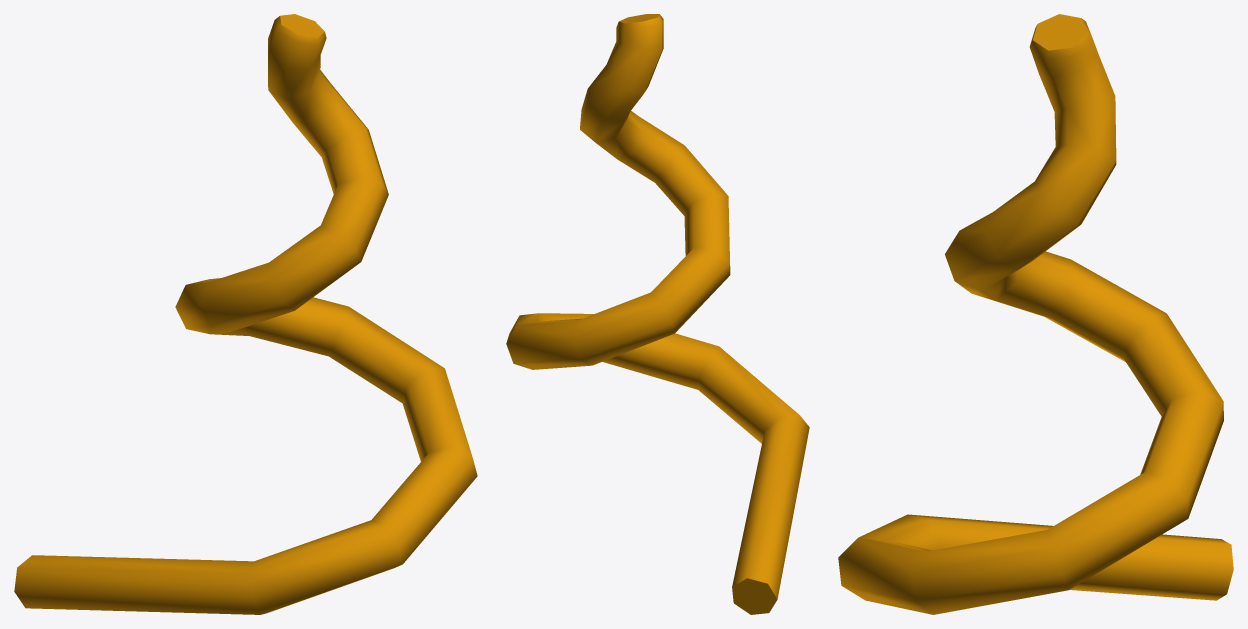
Rendered from Spiral_r.fbx.
The picture shows the model from 3 angles, left to right: view 1: azimuth 30°, elevation 25°; view 2: azimuth 150°, elevation 25°; view 3: azimuth 270°, elevation 25°; orthographic projection. The views are drawn at different scales.
Parts seen in each view (by area): view 1: Spiral_r; view 2: Spiral_r; view 3: Spiral_r.
Boxes of the visible parts, left/top/right/bottom form: Spiral_r: left=14, top=14, right=477, bottom=614; Spiral_r: left=506, top=14, right=809, bottom=614; Spiral_r: left=838, top=14, right=1233, bottom=614.
Size of the model in its own units: 56.95 by 45.31 by 86.67.
